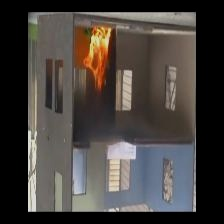fire: (76, 24, 115, 89)
